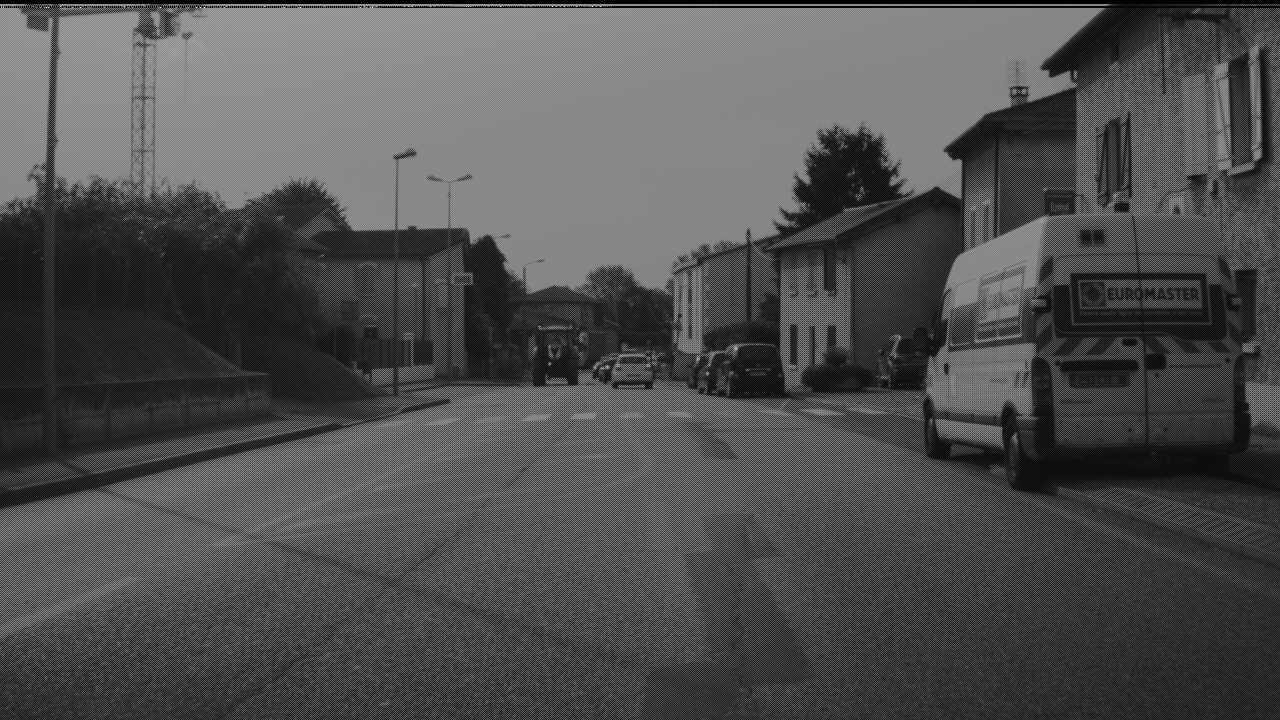pole: (42, 9, 59, 446), (392, 153, 399, 386), (445, 177, 451, 369), (746, 220, 752, 313), (521, 260, 526, 349)
